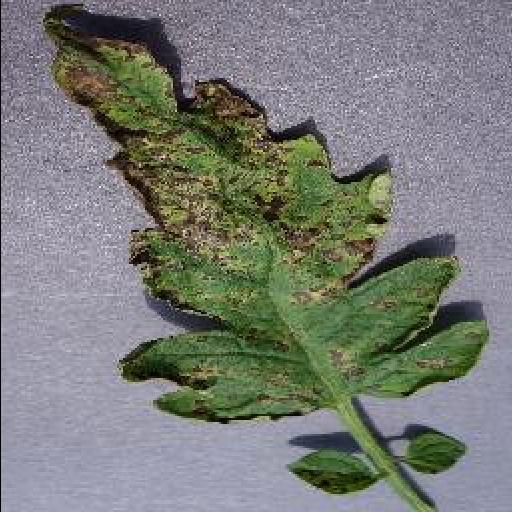disease_tomato: (41, 14, 491, 420)
